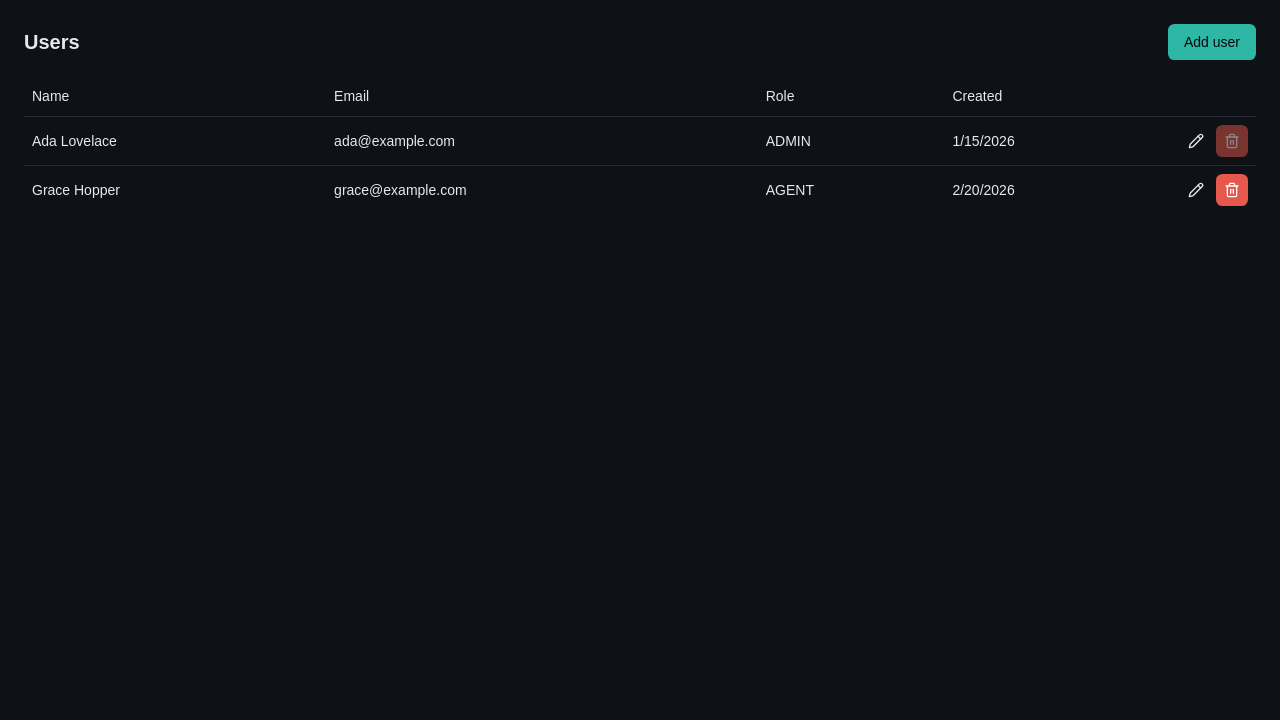
Test: Users › opens the create user dialog from the Add user button
Expected: the text "Ada Lovelace" is shown, [24, 116, 326, 165]
Click the button "Add user" at (1212, 42), box [1168, 24, 1256, 60]
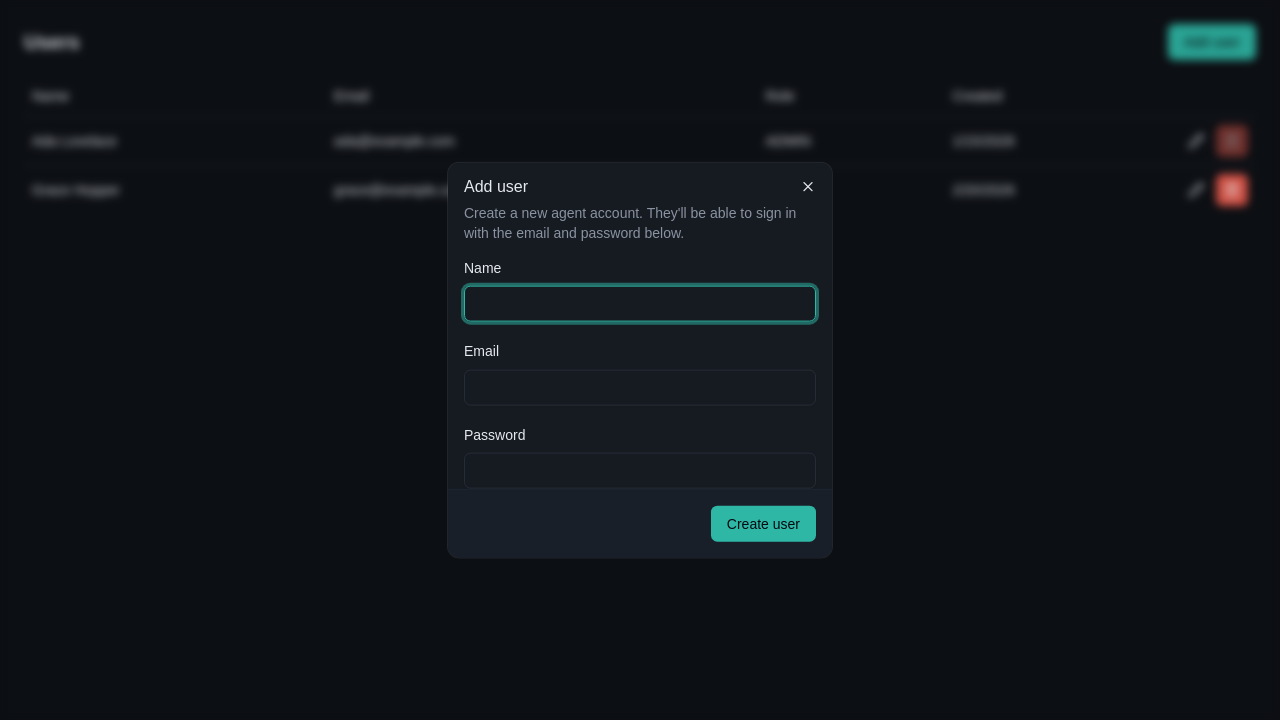
Expected: the text "Create a new agent account. They'll be able to sign in with the email and password below." is shown, [464, 205, 796, 241]
